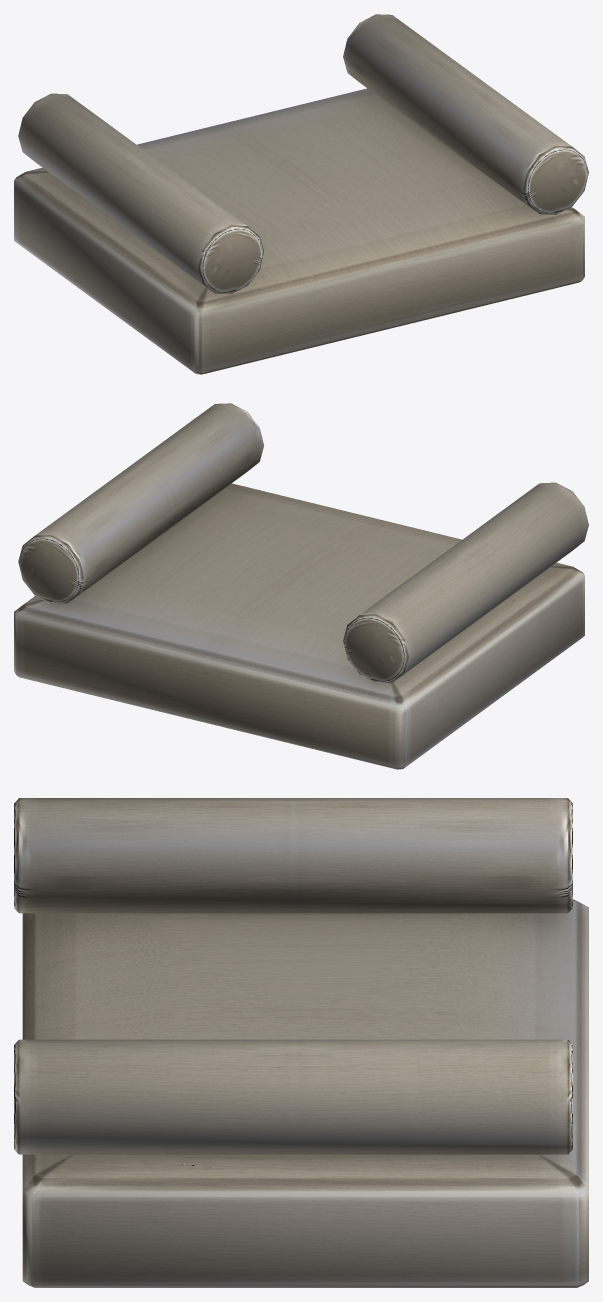
Rendered from Sofa02.FBX.
3 renders of one model, top to bottom at view 1: azimuth 30°, elevation 25°; view 2: azimuth 150°, elevation 25°; view 3: azimuth 270°, elevation 25°, orthographic. The views are drawn at different scales.
Parts seen in each view (by area): view 1: Sofa02; view 2: Sofa02; view 3: Sofa02.
Part boxes in pixels (box(x1,y1,x2,y2)): Sofa02: box(14, 14, 588, 374); Sofa02: box(14, 403, 588, 769); Sofa02: box(14, 798, 588, 1287).
Size of the model in its own units: 133 by 111 by 47.13.
